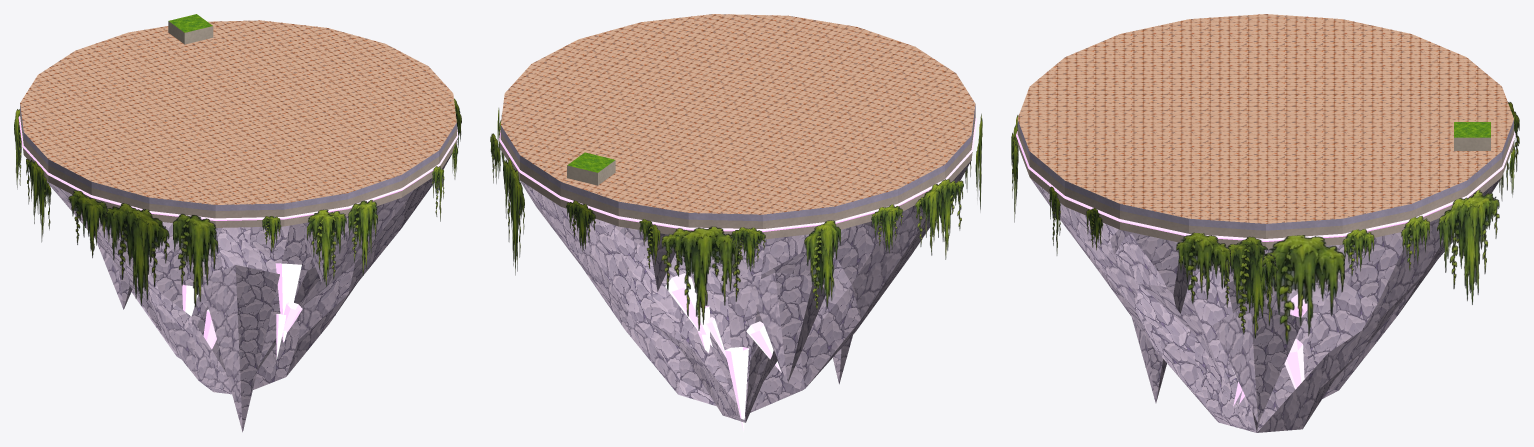
File: SKY_ISLAND_12.glb
3 renders of one model, left to right at view 1: azimuth 30°, elevation 25°; view 2: azimuth 150°, elevation 25°; view 3: azimuth 270°, elevation 25°, orthographic. The views are drawn at different scales.
Visible parts, largest first — view 1: S_Target_Skin.001, S_Target_Moss.001, S_Target_Crystals.001; view 2: S_Target_Skin.001, S_Target_Moss.001, S_Target_Crystals.001; view 3: S_Target_Skin.001, S_Target_Moss.001, S_Target_Crystals.001.
Boxes of the visible parts, bbox=[...] form: S_Target_Skin.001: bbox=[18, 14, 458, 432]; S_Target_Moss.001: bbox=[14, 98, 461, 307]; S_Target_Crystals.001: bbox=[182, 263, 302, 359]; S_Target_Skin.001: bbox=[499, 14, 976, 422]; S_Target_Moss.001: bbox=[490, 108, 982, 330]; S_Target_Crystals.001: bbox=[665, 273, 781, 431]; S_Target_Skin.001: bbox=[1016, 14, 1515, 432]; S_Target_Moss.001: bbox=[1011, 101, 1519, 344]; S_Target_Crystals.001: bbox=[1232, 294, 1307, 406].
Size of the model in its own units: 26.9 by 18.99 by 26.63.
Materials: 7 (5 with a texture image).
